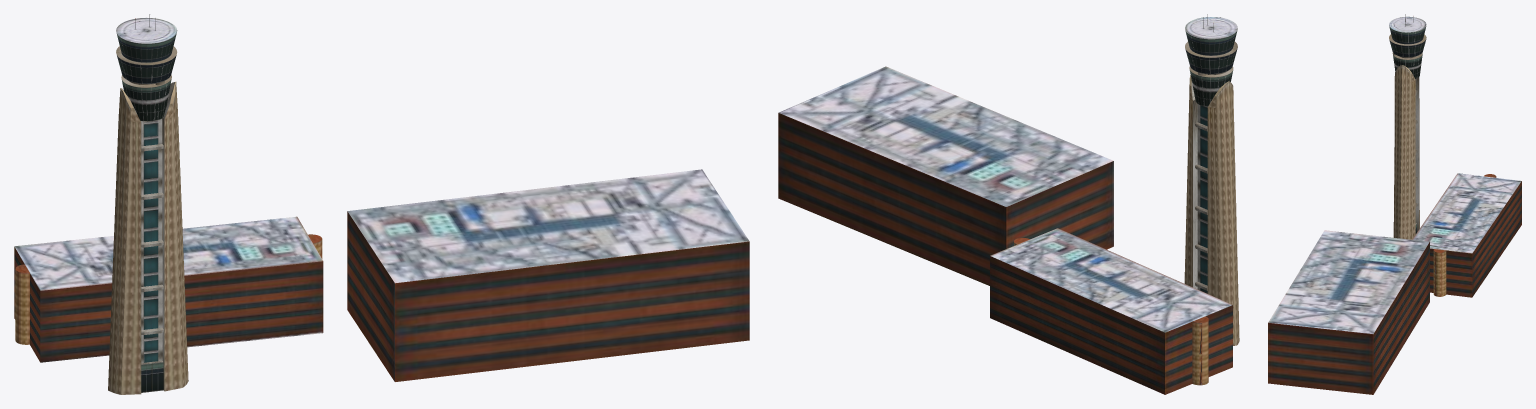
File: vidp_atc.glb
The picture shows the model from 3 angles, left to right: view 1: azimuth 30°, elevation 25°; view 2: azimuth 150°, elevation 25°; view 3: azimuth 270°, elevation 25°; orthographic projection. The views are drawn at different scales.
Visible parts, largest first — view 1: ATCBD2, ATCBD1, ATCBT, ATCTP; view 2: ATCBD2, ATCBD1, ATCBT, ATCTP; view 3: ATCBD2, ATCBD1, ATCBT, ATCTP.
Part boxes in pixels (x1,y1,x2,y2): ATCBD2: [347, 169, 749, 381]; ATCBD1: [14, 216, 323, 362]; ATCBT: [108, 81, 188, 394]; ATCTP: [116, 14, 177, 121]; ATCBD2: [778, 66, 1113, 285]; ATCBD1: [990, 228, 1232, 394]; ATCBT: [1184, 75, 1239, 345]; ATCTP: [1185, 14, 1237, 106]; ATCBD2: [1268, 230, 1429, 394]; ATCBD1: [1412, 173, 1521, 297]; ATCBT: [1393, 65, 1419, 239]; ATCTP: [1389, 14, 1426, 78].
Bounding box in the file's own units: 194 × 115 × 117.
Materials: 4 (4 with a texture image).
